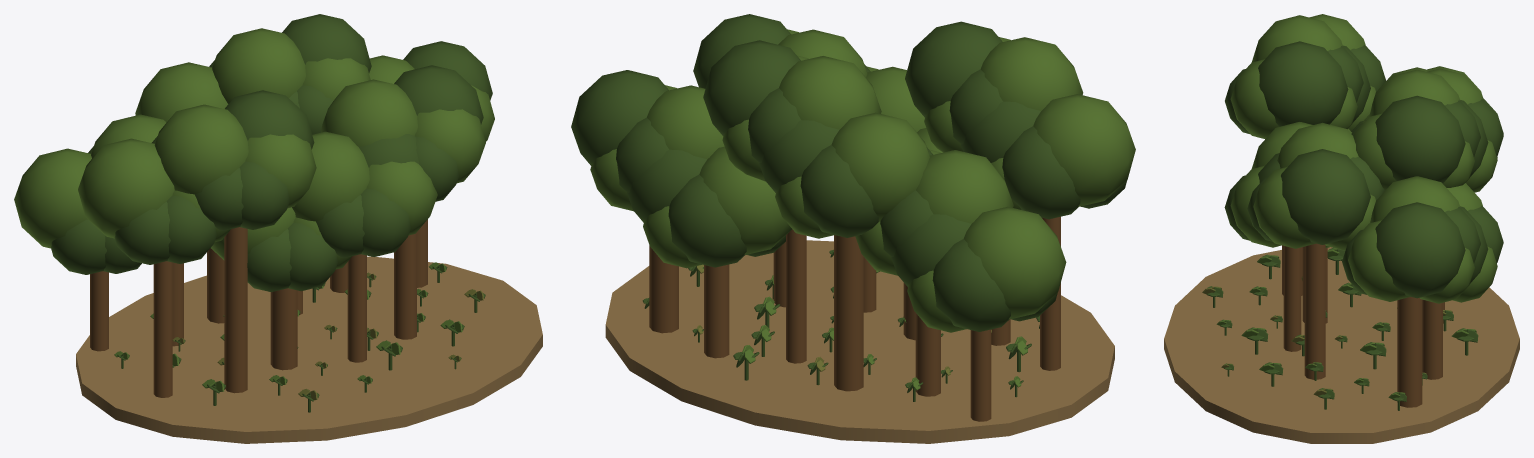
Rendered from forest-reserve.glb.
3 renders of one model, left to right at view 1: azimuth 30°, elevation 25°; view 2: azimuth 150°, elevation 25°; view 3: azimuth 270°, elevation 25°, orthographic. The views are drawn at different scales.
Visible parts, largest first — view 1: forest-reserve-farm-leaf, forest-reserve-farm-dirt, forest-reserve-farm-leaf-dark, forest-reserve-farm-wood-shadow, forest-reserve-farm-grass; view 2: forest-reserve-farm-leaf-dark, forest-reserve-farm-leaf, forest-reserve-farm-dirt, forest-reserve-farm-wood-shadow; view 3: forest-reserve-farm-dirt, forest-reserve-farm-leaf-dark, forest-reserve-farm-leaf, forest-reserve-farm-wood-shadow, forest-reserve-farm-grass.
Boxes of the visible parts, x1,y1,x2,y2 form: forest-reserve-farm-leaf: [14, 28, 494, 391]; forest-reserve-farm-dirt: [76, 256, 542, 443]; forest-reserve-farm-leaf-dark: [51, 14, 492, 412]; forest-reserve-farm-wood-shadow: [90, 219, 427, 397]; forest-reserve-farm-grass: [172, 273, 483, 400]; forest-reserve-farm-leaf-dark: [571, 14, 1127, 401]; forest-reserve-farm-leaf: [590, 29, 1135, 390]; forest-reserve-farm-dirt: [605, 240, 1114, 443]; forest-reserve-farm-wood-shadow: [649, 216, 1060, 421]; forest-reserve-farm-dirt: [1164, 247, 1519, 443]; forest-reserve-farm-leaf-dark: [1206, 41, 1503, 410]; forest-reserve-farm-leaf: [1216, 14, 1497, 398]; forest-reserve-farm-wood-shadow: [1282, 243, 1444, 407]; forest-reserve-farm-grass: [1202, 276, 1452, 395].
Bounding box in the file's own units: 6.35 × 3.97 × 4.7.
